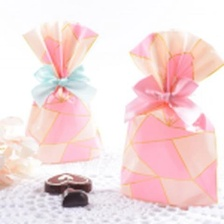snack: (116, 22, 223, 210), (11, 11, 114, 169)
